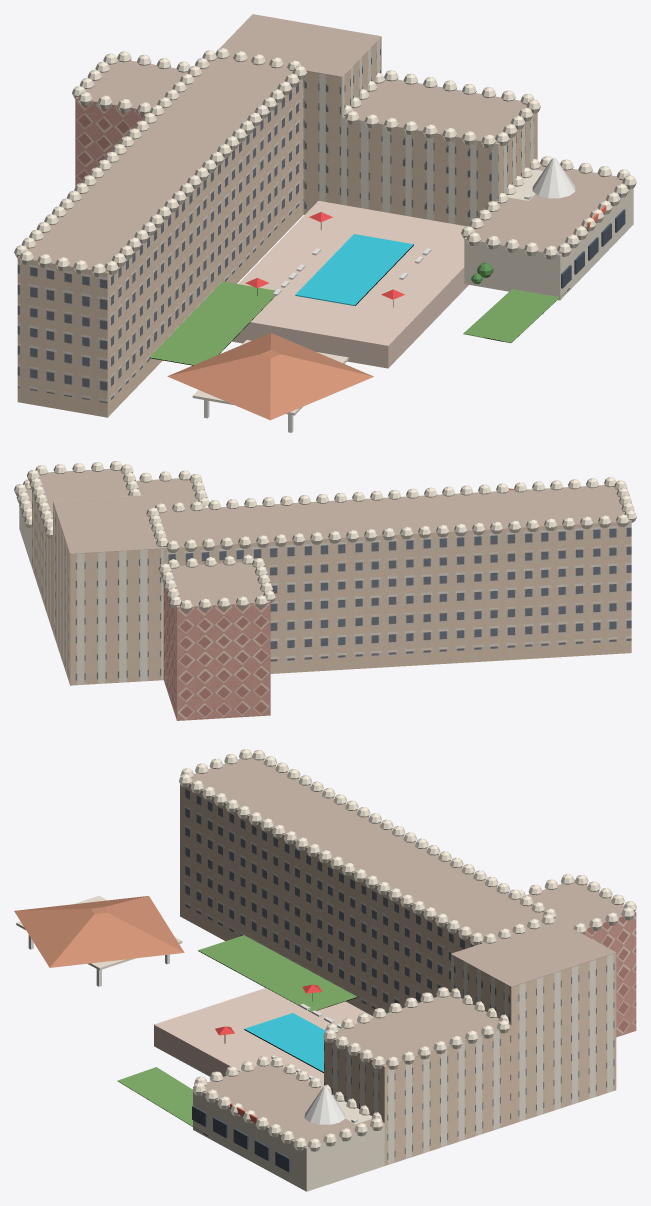
Rendered from azalai_hotel.glb.
3 renders of one model, top to bottom at view 1: azimuth 30°, elevation 25°; view 2: azimuth 150°, elevation 25°; view 3: azimuth 270°, elevation 25°, orthographic. The views are drawn at different scales.
Parts seen in each view (by area): view 1: Azalai_Hotel; view 2: Azalai_Hotel; view 3: Azalai_Hotel.
Boxes of the visible parts, x1,y1,x2,y2 form: Azalai_Hotel: (14, 14, 636, 432); Azalai_Hotel: (14, 461, 636, 720); Azalai_Hotel: (14, 749, 636, 1191).
Bounding box in the file's own units: 0.35 × 0.0822 × 0.3069.
Materials: 1 (1 with a texture image).
